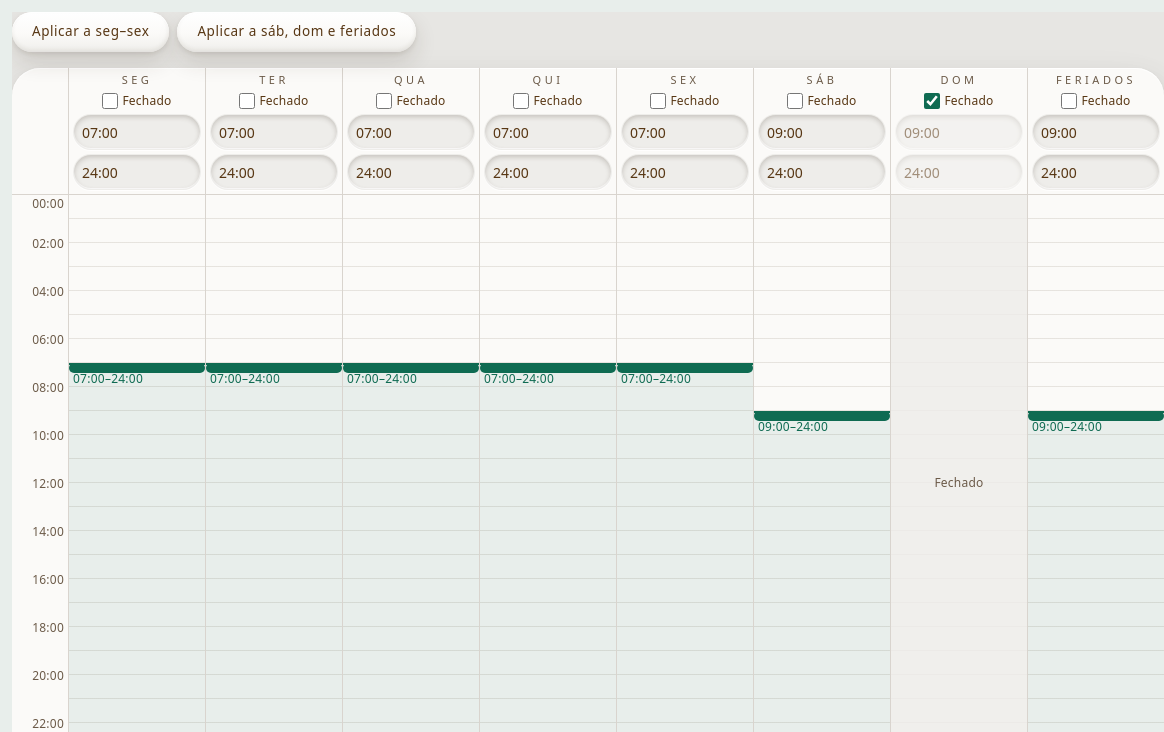
WeekHoursEditor (NUC-40) › commits a typed time on blur and rejects one that is not a slot multiple
The image size is (1164, 732).
Replace the text in the field named "Abertura segunda" with "08:30" at [137, 132], box [73,114,201,150]
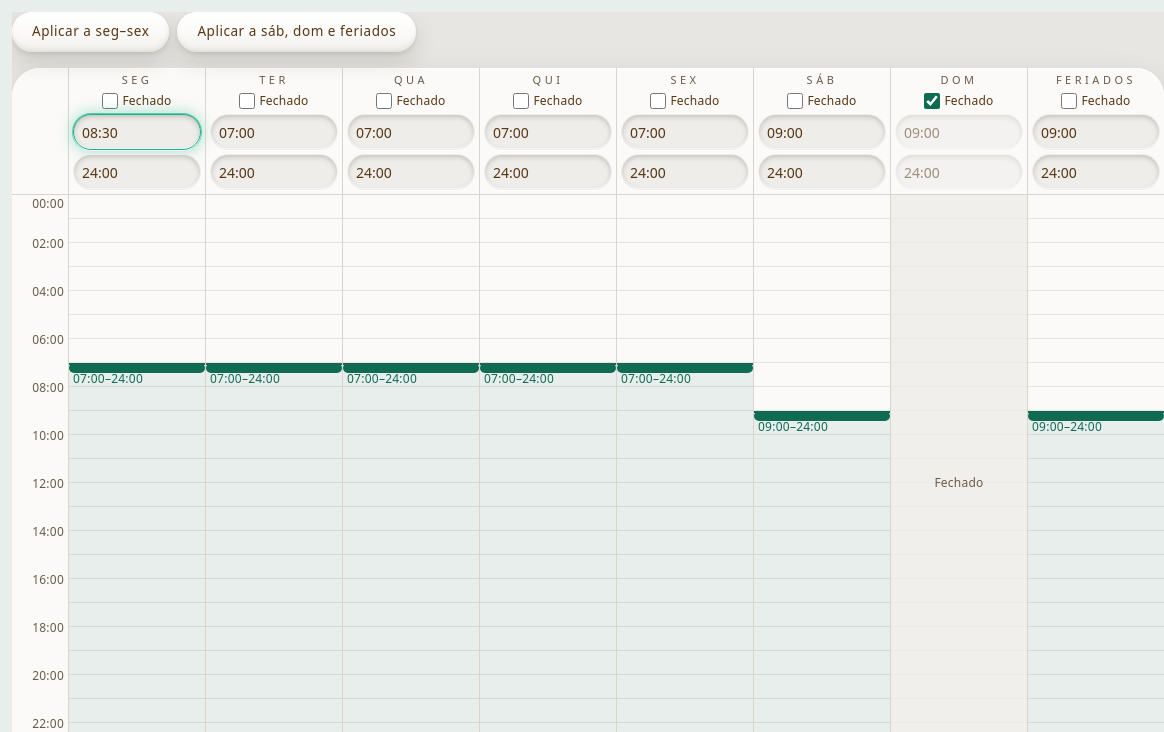
Press Tab
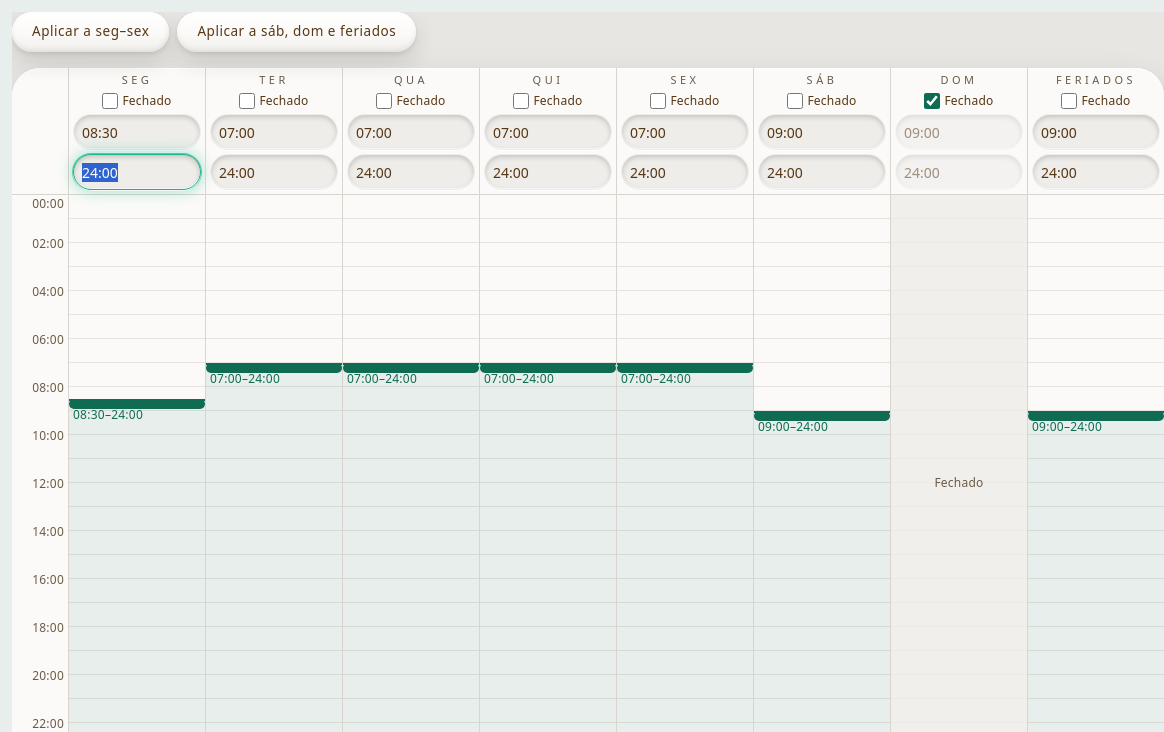
Replace the text in the field named "Abertura segunda" with "07:10" at [137, 132], box [73,114,201,150]
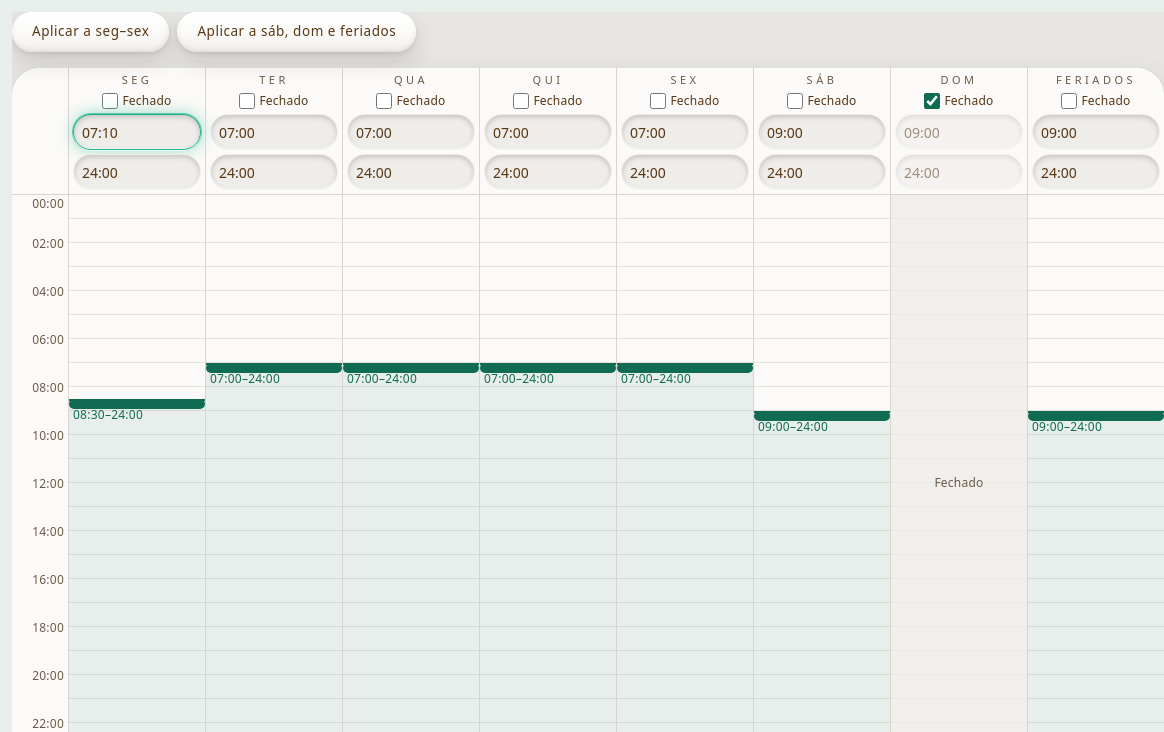
Press Tab
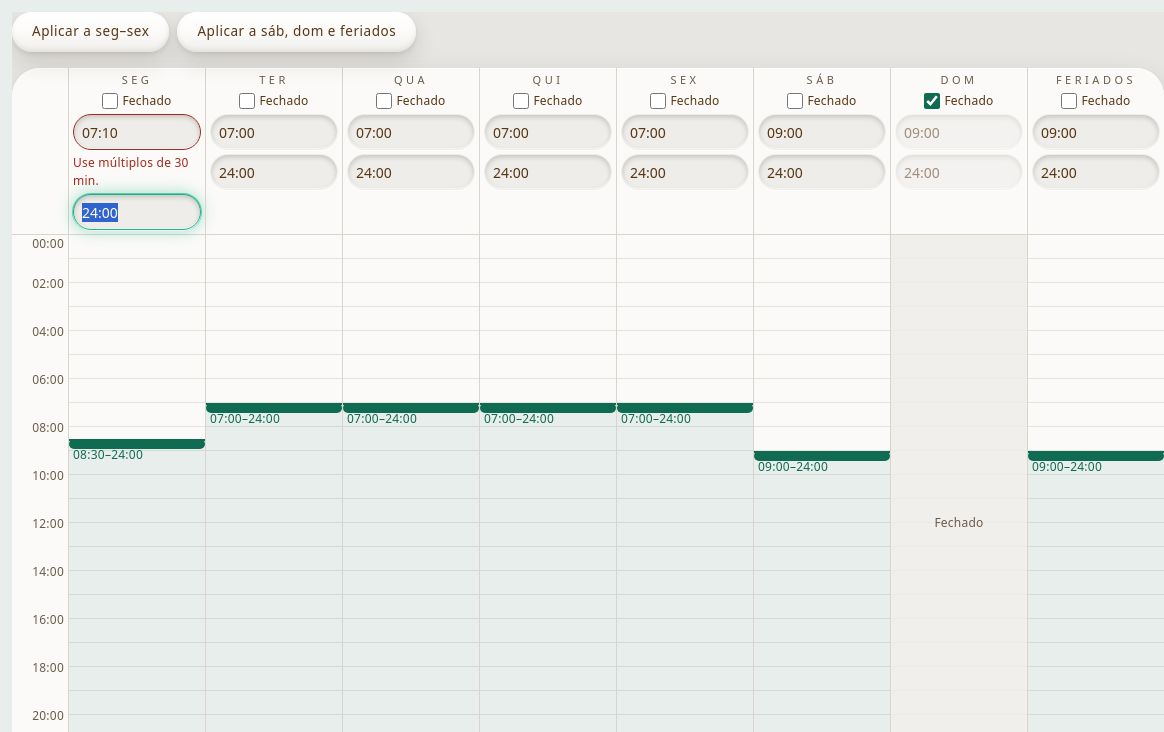
Now the text "Use múltiplos de 30 min." is shown, box [73,154,201,190]
